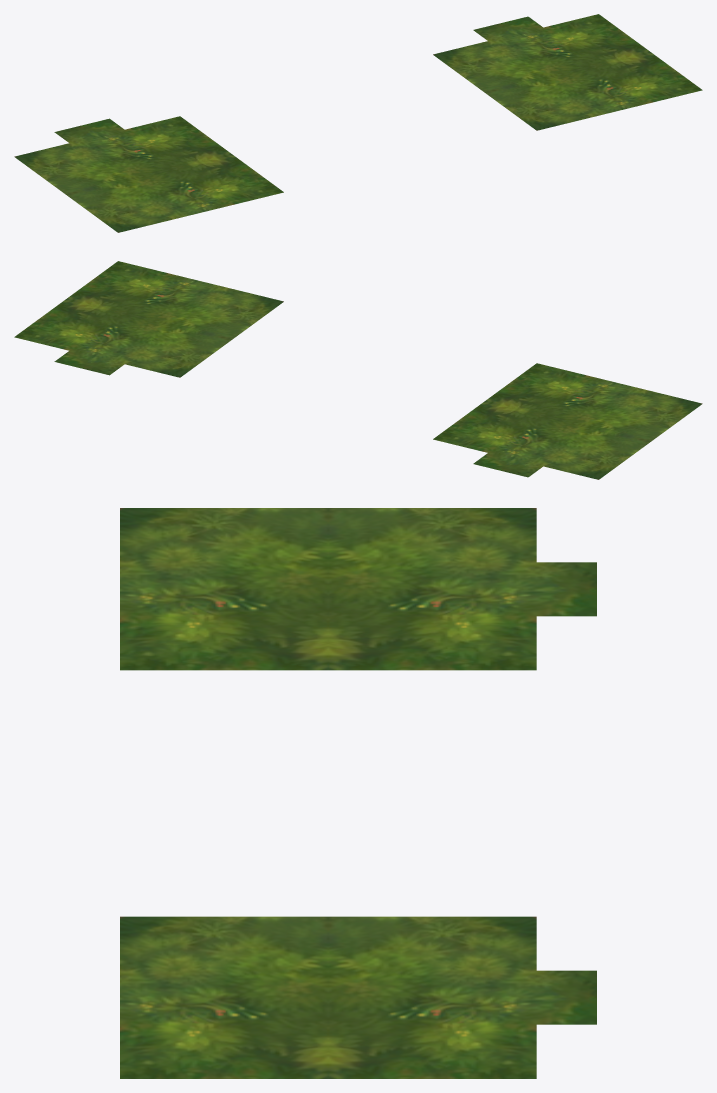
Rendered from DN_mcgatestair01a.FBX.
3 renders of one model, top to bottom at view 1: azimuth 30°, elevation 25°; view 2: azimuth 150°, elevation 25°; view 3: azimuth 270°, elevation 25°, orthographic. The views are drawn at different scales.
Parts seen in each view (by area): view 1: DN_mcgatestair01a; view 2: DN_mcgatestair01a; view 3: DN_mcgatestair01a.
Part boxes in pixels (x1,y1,x2,y2): DN_mcgatestair01a: [14, 14, 702, 232]; DN_mcgatestair01a: [14, 261, 702, 479]; DN_mcgatestair01a: [120, 508, 596, 1078].
Size of the model in its own units: 4047 by 0.000732 by 1430.
